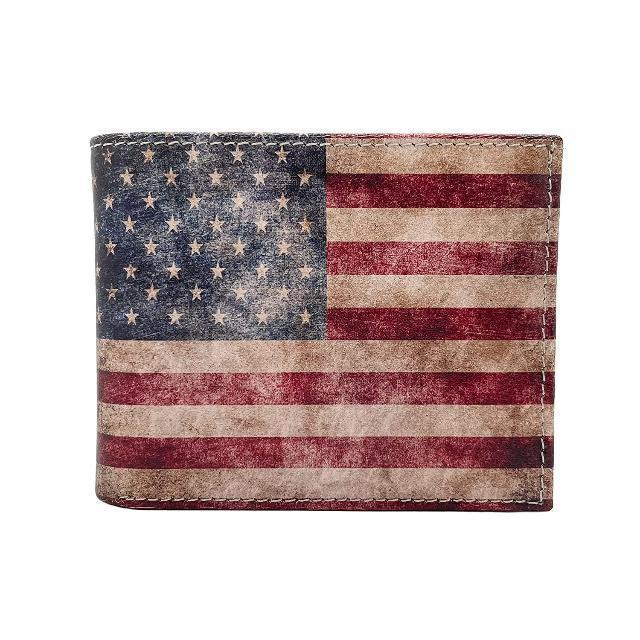wallet: (88, 126, 560, 518)
